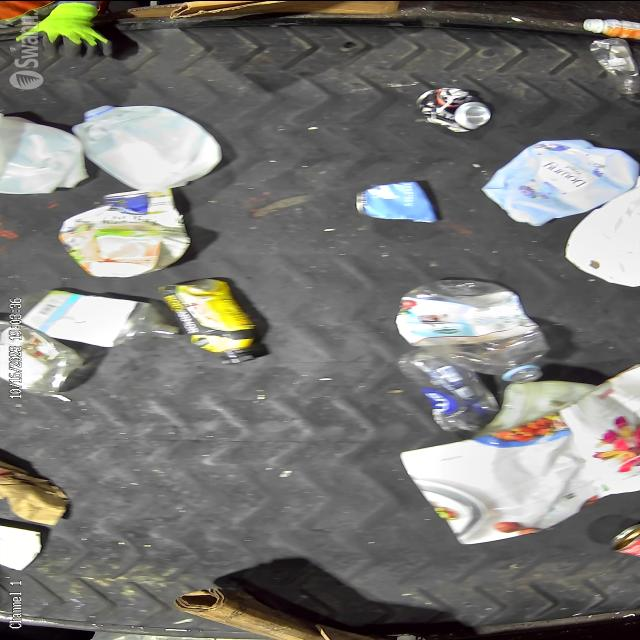can: (352, 180, 438, 224), (414, 85, 490, 132), (608, 522, 640, 558)
milk_jug: (72, 102, 222, 189), (561, 188, 640, 286), (0, 111, 91, 193)
non_white_jug: (482, 136, 640, 226), (60, 187, 192, 277)
plastic_bottle: (395, 277, 549, 385), (394, 347, 502, 432), (590, 34, 640, 93)
